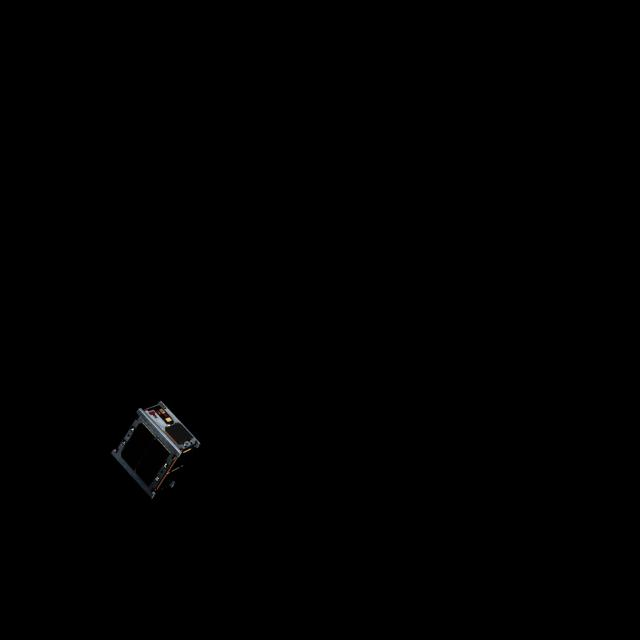satellite: (112, 398, 213, 498)
